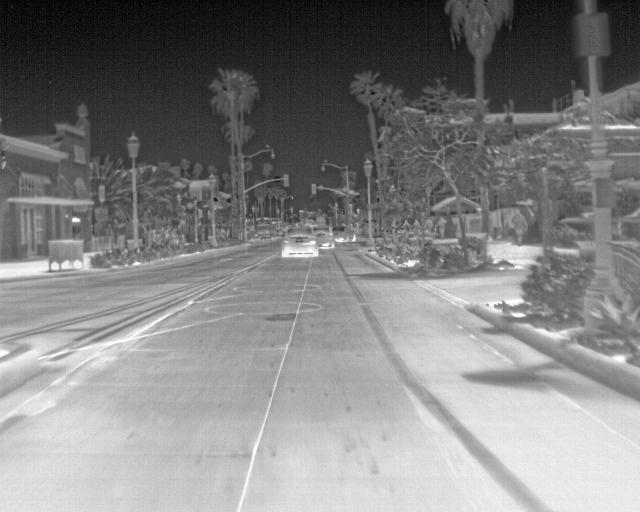bicycle: (280, 222, 318, 257), (331, 224, 359, 244), (309, 223, 331, 247)
empty: (509, 205, 528, 247), (434, 214, 448, 237)
